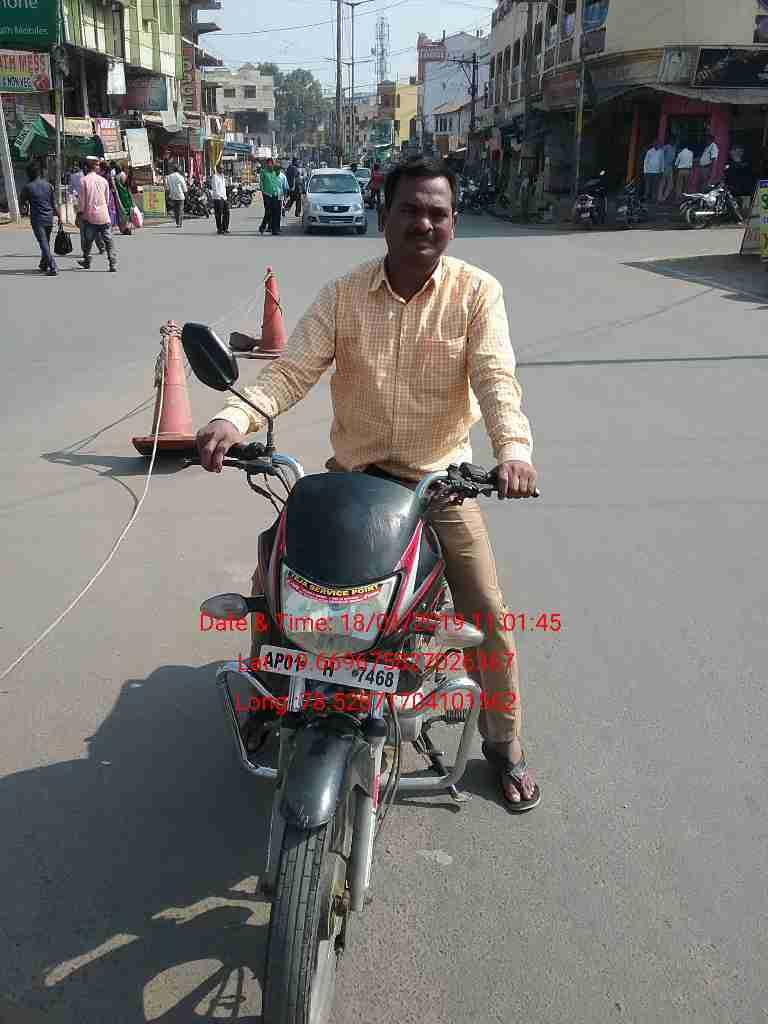plate: (252, 641, 402, 697)
